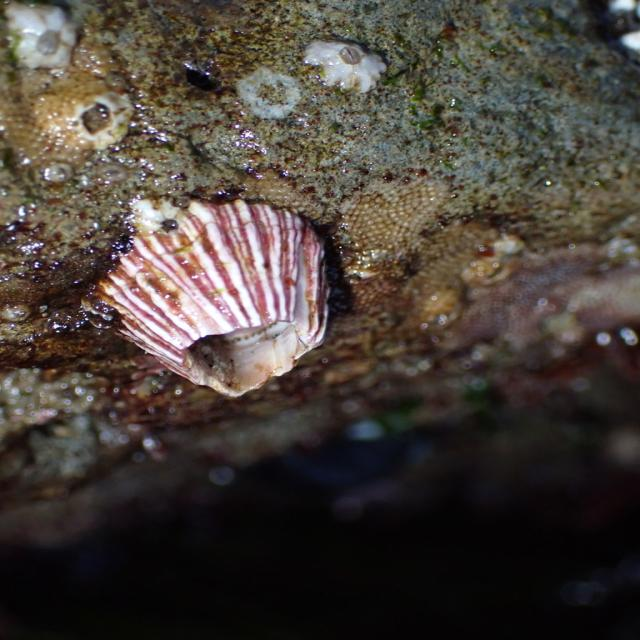barnacles: (82, 210, 344, 413), (29, 90, 142, 163), (11, 3, 85, 75), (312, 29, 389, 95)
